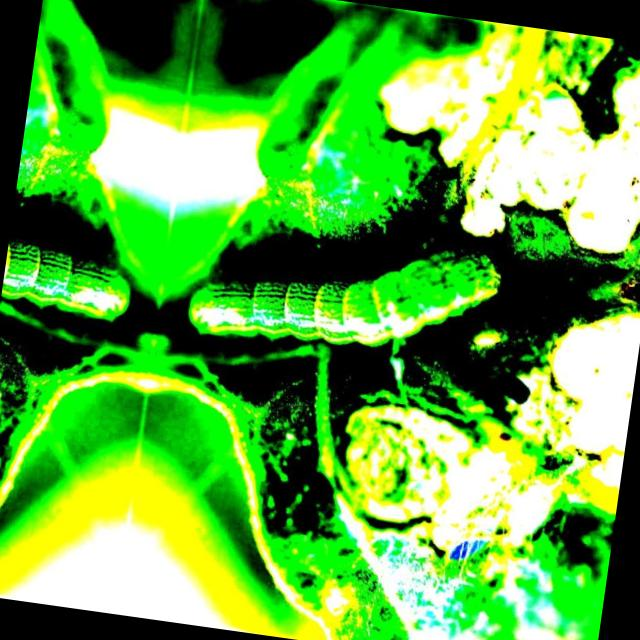Armyworm: (166, 191, 532, 421), (1, 220, 166, 358)
